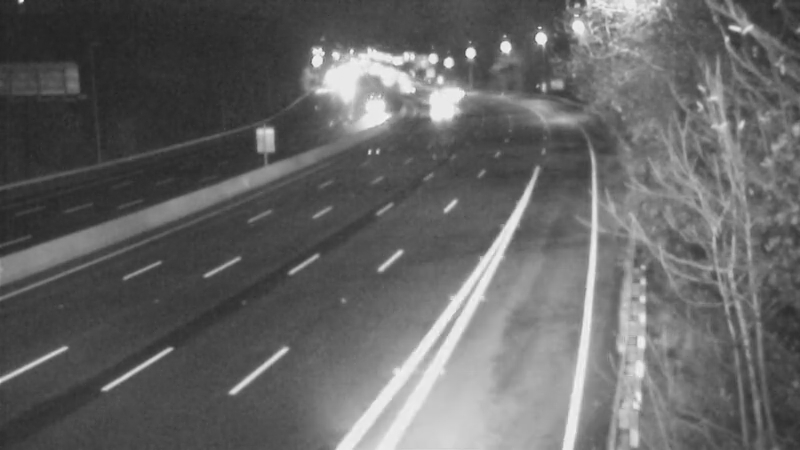vehicle: (412, 75, 462, 125), (414, 88, 464, 138), (350, 88, 400, 138)
